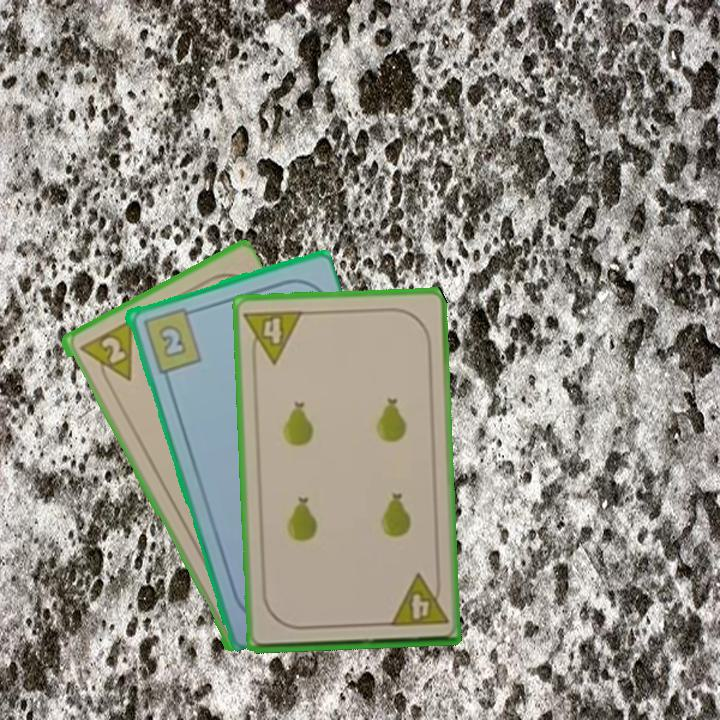2b: (139, 304, 204, 376)
2p: (96, 332, 128, 366)
4p: (241, 306, 306, 367), (385, 571, 451, 630)
